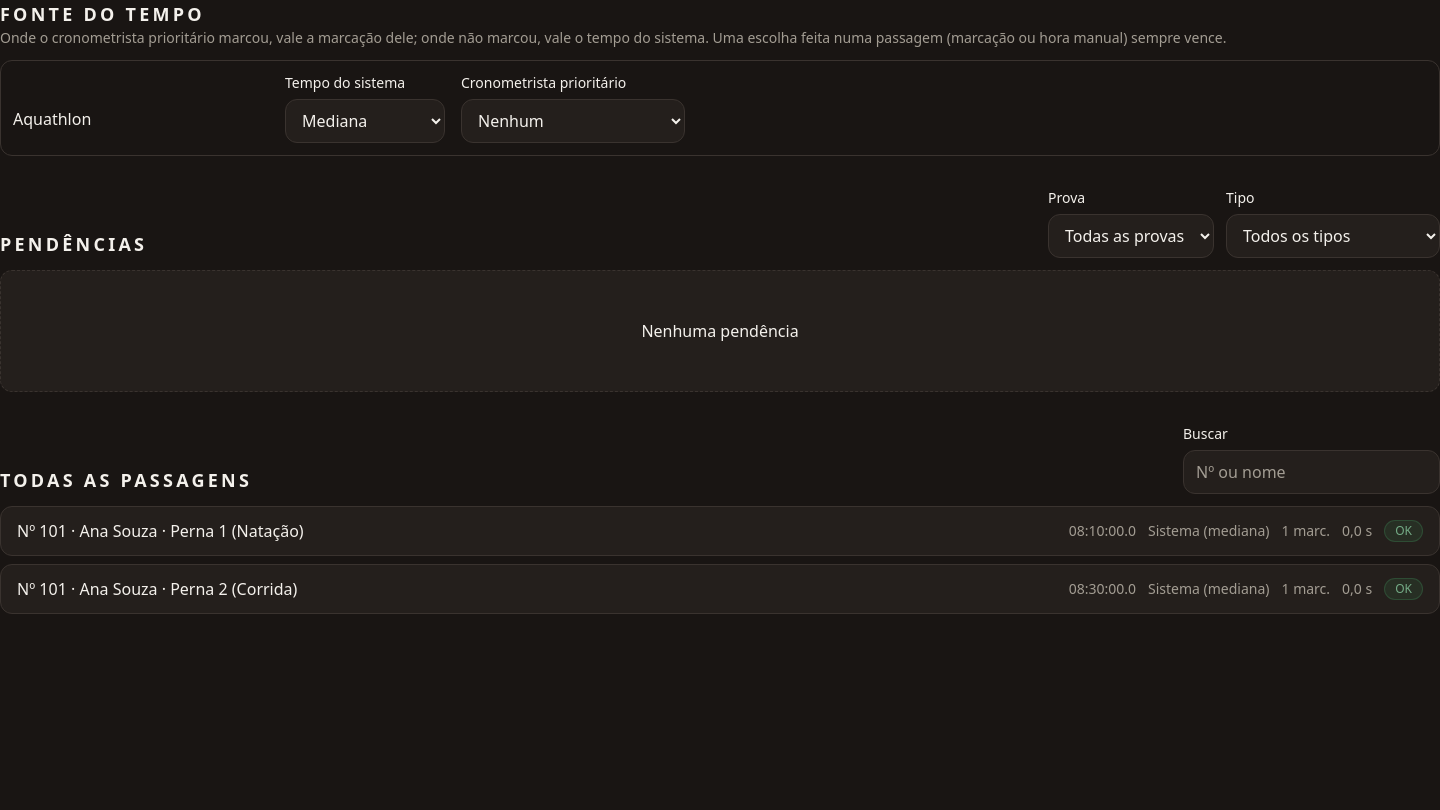
ReviewTab: todas as passagens › renders a crossing-row per leg and opens the editor on click
Click the button with test id "crossing-row".
click(118, 531)  # box [0,506,1439,556]
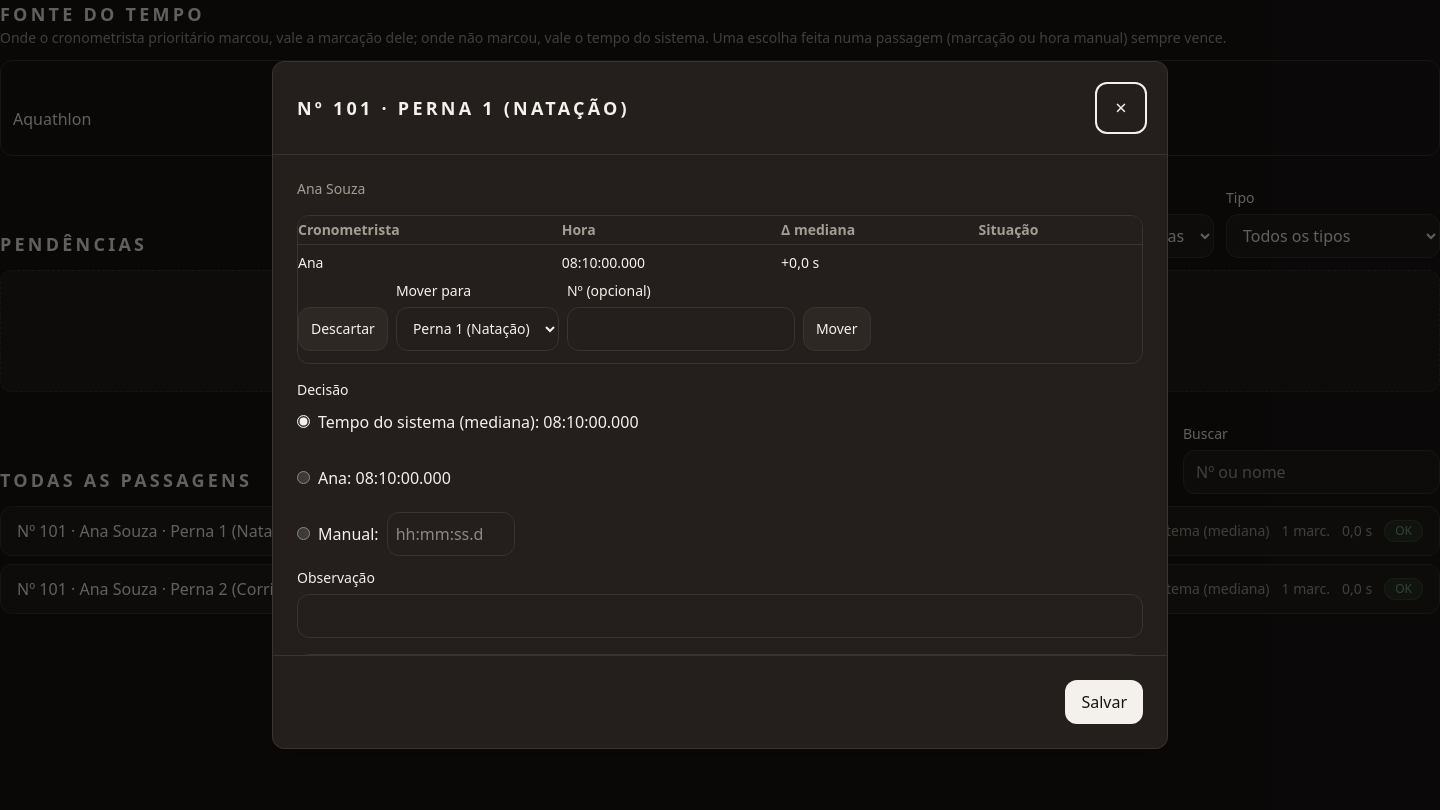
Expected: the radio button with test id "resolution-system" is shown, [297,415,310,428]
